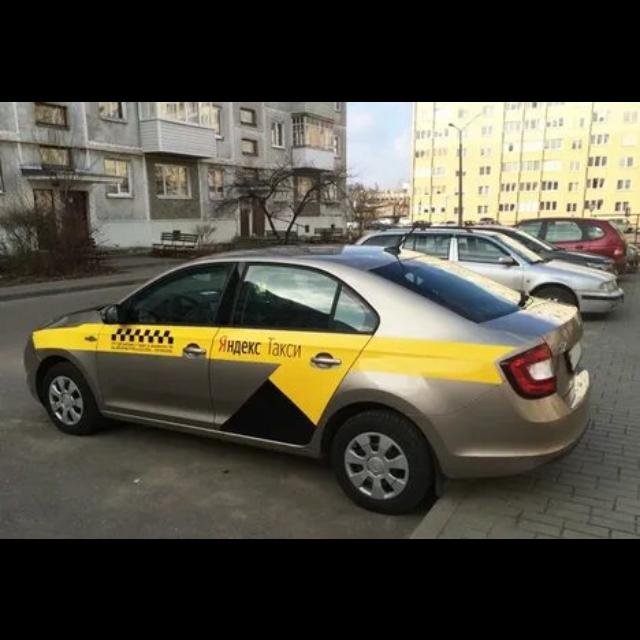taxi: (23, 242, 591, 515)
